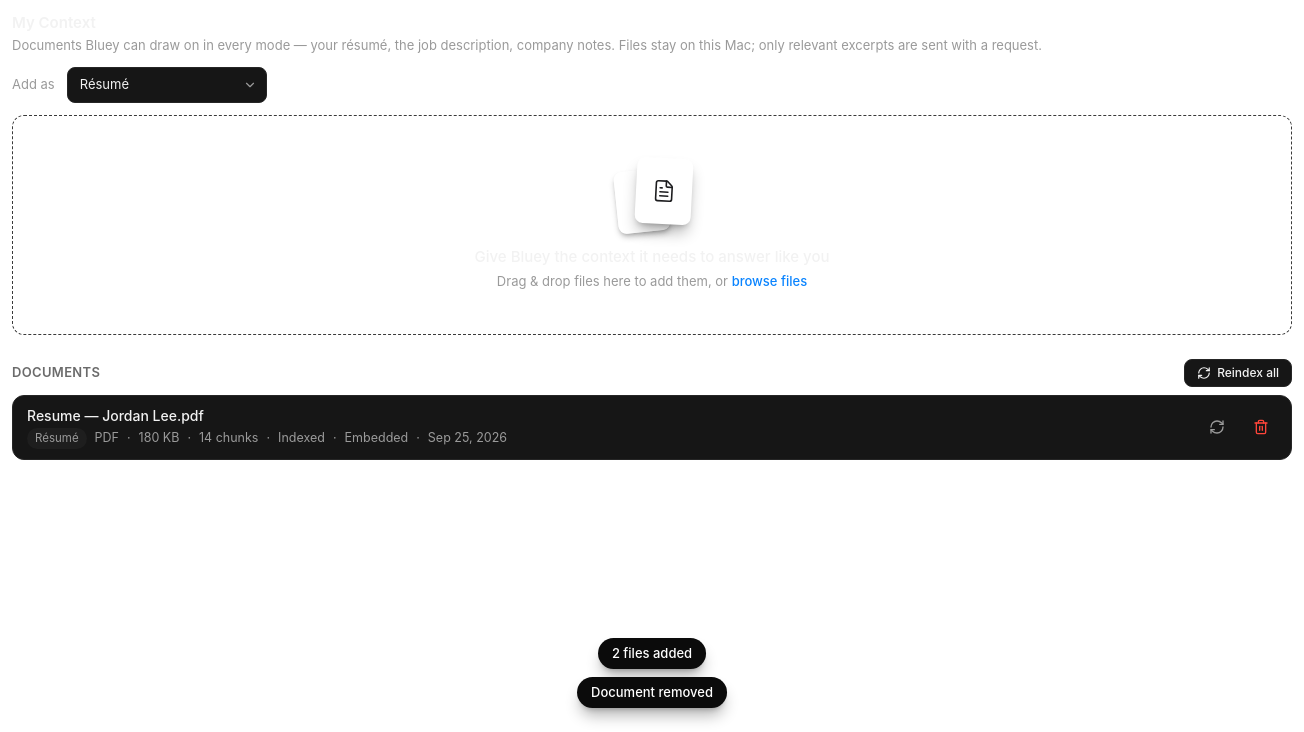
Scenario: ContextTab (My Context) › reindexes everything from the header button
The image size is (1304, 732).
Expected: the text "Resume — Jordan Lee.pdf" is shown, [27, 407, 204, 424]
Click the button "Reindex all".
click(1238, 373)  # box [1184, 359, 1292, 387]
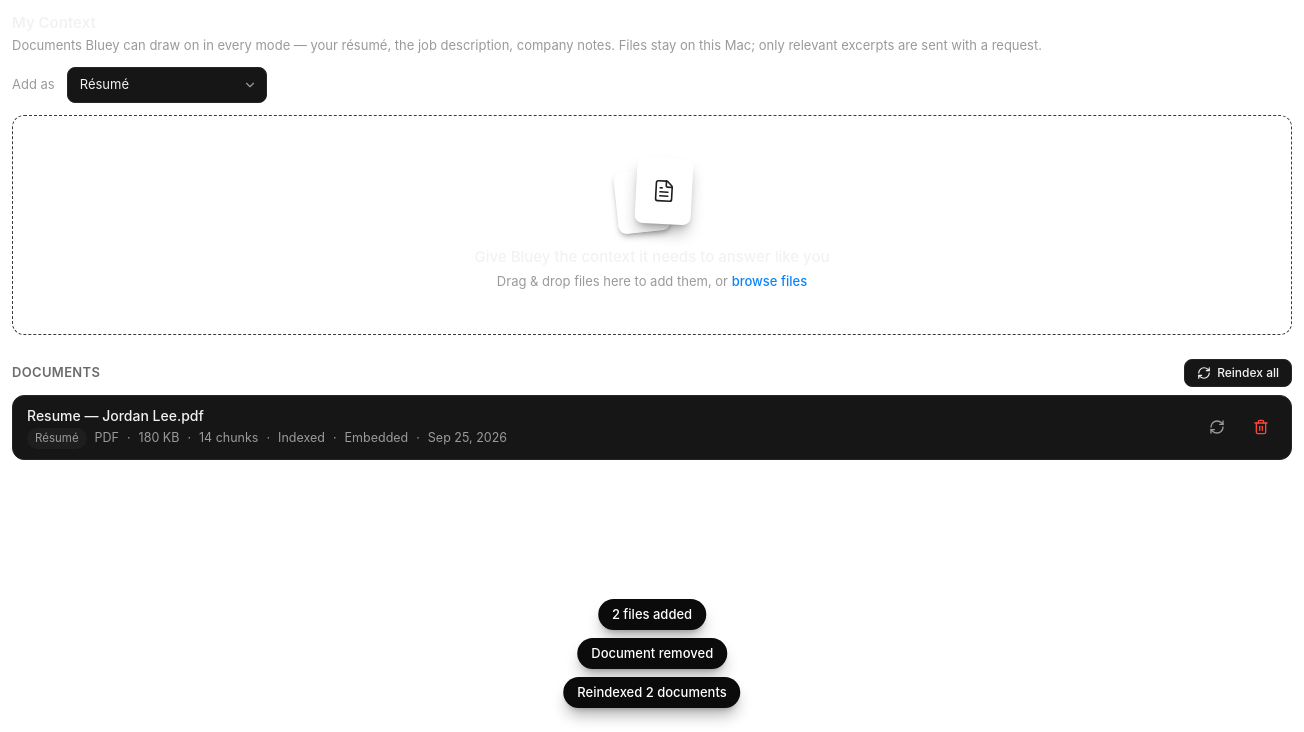
Expected: the text "Reindexed 2 documents" is shown, [563, 677, 741, 708]
